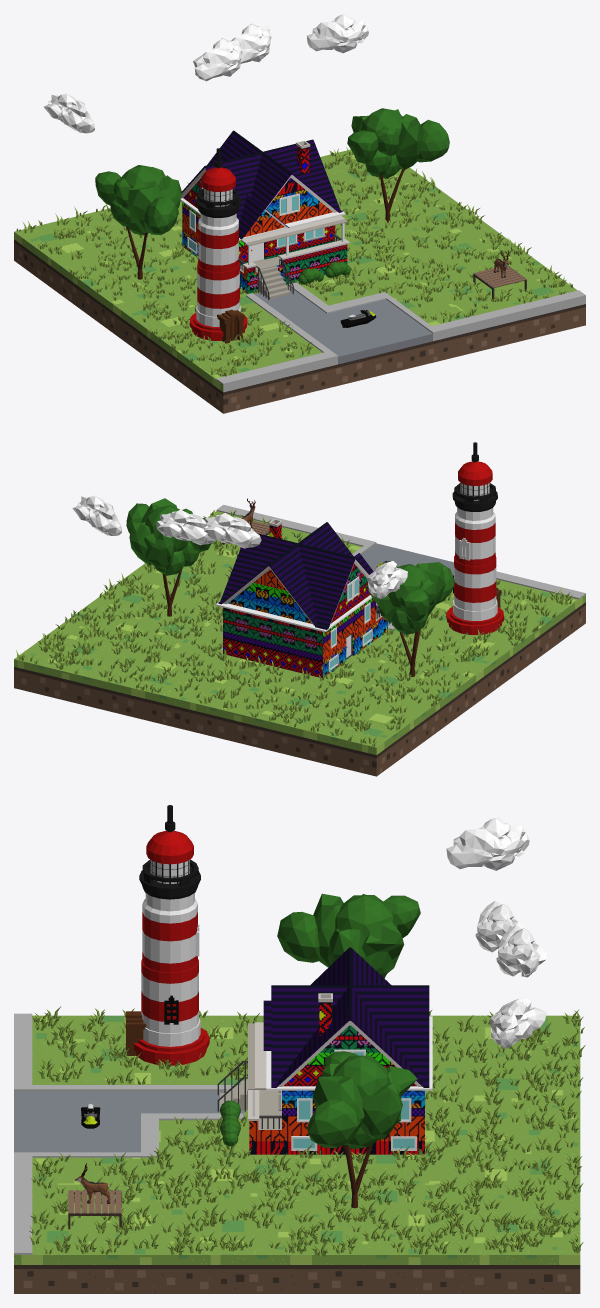
3 renders of one model, top to bottom at view 1: azimuth 30°, elevation 25°; view 2: azimuth 150°, elevation 25°; view 3: azimuth 270°, elevation 25°, orthographic. The views are drawn at different scales.
Parts seen in each view (by area): view 1: Cube.006, Circle.012_Grass_0.192, Cube.966, OBJRANDOM_LIGHTHOUSE, Cube.007, tree, tree.001, Cube.009; view 2: Cube.006, Cube.966, Circle.012_Grass_0.192, OBJRANDOM_LIGHTHOUSE, Cube.007, tree.001, tree; view 3: Cube.006, Circle.012_Grass_0.192, Cube.966, OBJRANDOM_LIGHTHOUSE, tree, Cube.007, tree.001, Cube.009.
Boxes of the visible parts, bbox=[...] form: Cube.006: bbox=[14, 149, 585, 413]; Circle.012_Grass_0.192: bbox=[16, 147, 573, 376]; Cube.966: bbox=[180, 130, 349, 300]; OBJRANDOM_LIGHTHOUSE: bbox=[189, 148, 247, 343]; Cube.007: bbox=[44, 14, 368, 133]; tree: bbox=[347, 108, 449, 222]; tree.001: bbox=[95, 165, 181, 279]; Cube.009: bbox=[473, 265, 526, 299]; Cube.006: bbox=[14, 505, 585, 776]; Cube.966: bbox=[215, 519, 387, 678]; Circle.012_Grass_0.192: bbox=[16, 510, 572, 746]; OBJRANDOM_LIGHTHOUSE: bbox=[446, 442, 503, 634]; Cube.007: bbox=[72, 495, 407, 599]; tree.001: bbox=[365, 562, 454, 676]; tree: bbox=[126, 498, 211, 616]; Cube.006: bbox=[14, 1013, 580, 1293]; Circle.012_Grass_0.192: bbox=[29, 1006, 585, 1256]; Cube.966: bbox=[217, 947, 432, 1154]; OBJRANDOM_LIGHTHOUSE: bbox=[126, 805, 209, 1065]; tree: bbox=[307, 1051, 417, 1208]; Cube.007: bbox=[446, 817, 546, 1048]; tree.001: bbox=[277, 893, 420, 978]; Cube.009: bbox=[68, 1190, 121, 1229].
Size of the model in its own units: 4071 by 2288 by 4040.
Materials: 43 (7 with a texture image).
